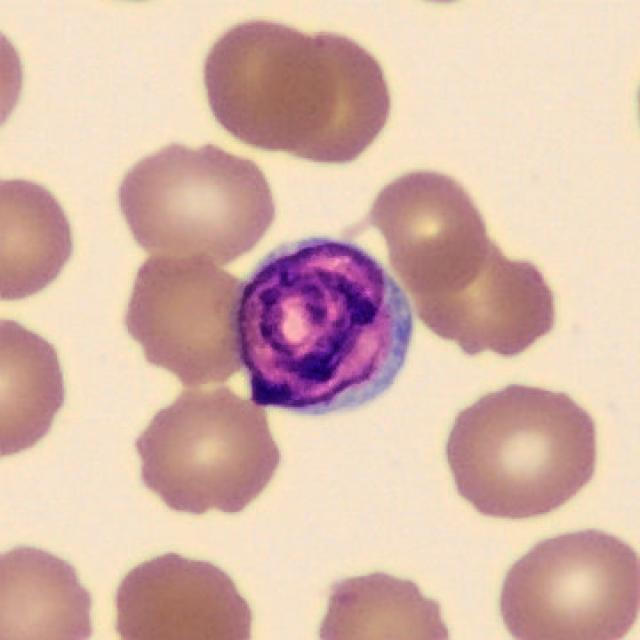Linfocito: (236, 240, 416, 416)
